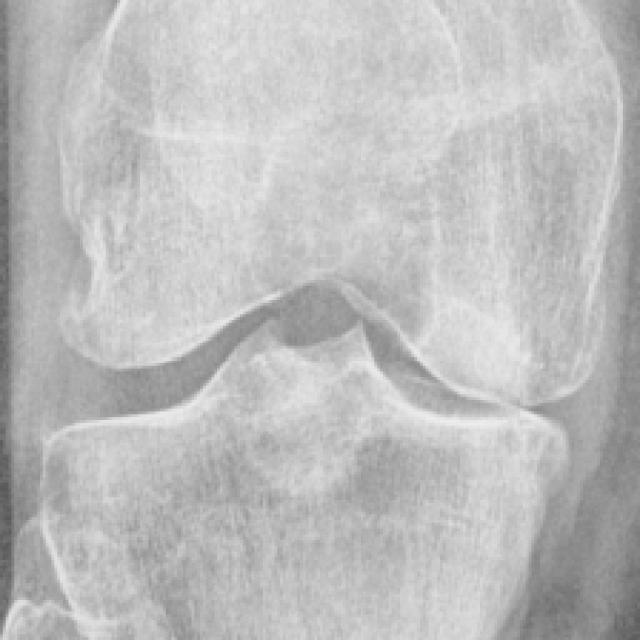femur: (55, 1, 623, 406)
tibia: (43, 322, 569, 640)
